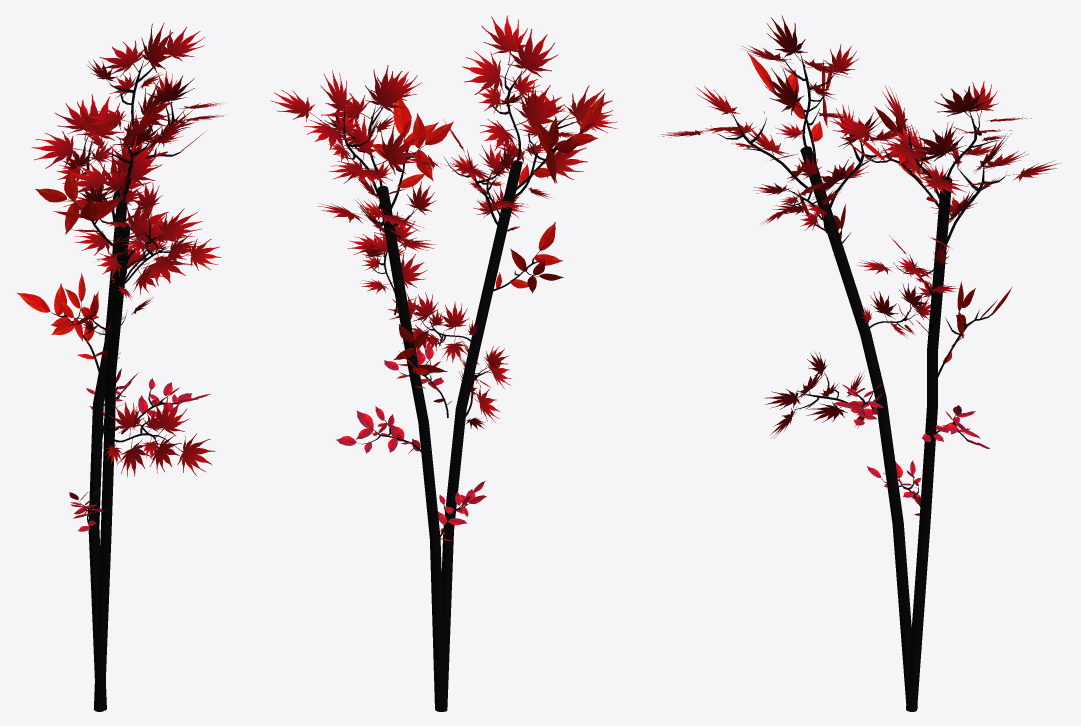
The model's file is redtree2.fbx.
3 views of the same model, side by side, from view 1: azimuth 30°, elevation 25°; view 2: azimuth 150°, elevation 25°; view 3: azimuth 270°, elevation 25° (orthographic). The views are drawn at different scales.
Visible parts, largest first — view 1: pCylinder1071; view 2: pCylinder1071; view 3: pCylinder1071.
Boxes of the visible parts, x1,y1,x2,y2 form: pCylinder1071: [17, 23, 227, 711]; pCylinder1071: [270, 15, 617, 711]; pCylinder1071: [658, 15, 1061, 711].
Bounding box in the file's own units: 17.35 × 44.36 × 24.1.
